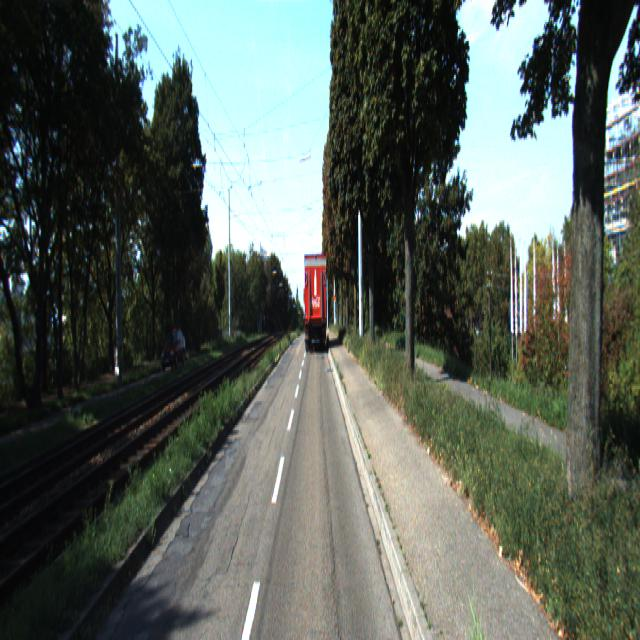Car: (302, 249, 326, 352), (160, 328, 188, 373)
